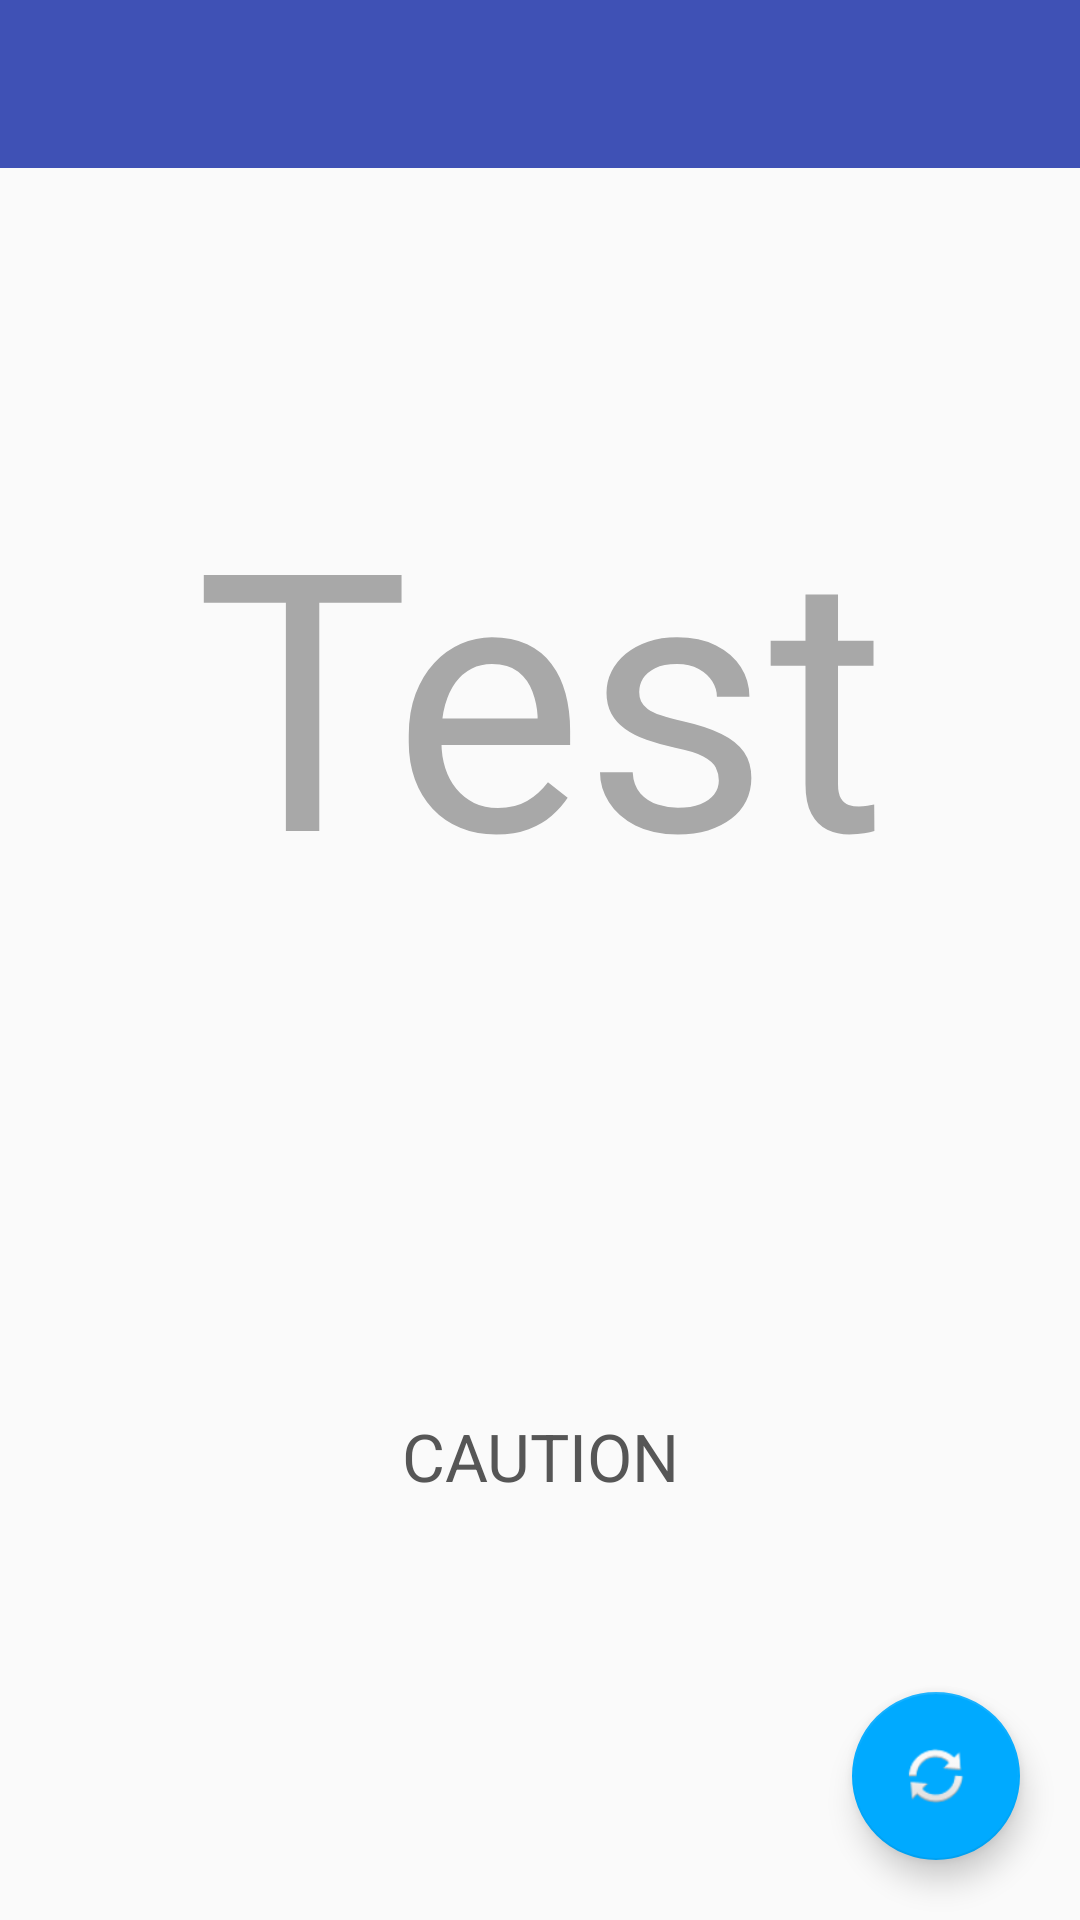

Where icons sit on this 1080*1920 app screen, as (x1, y1, x2, y2):
popup sync: (852, 1692, 1020, 1860)
